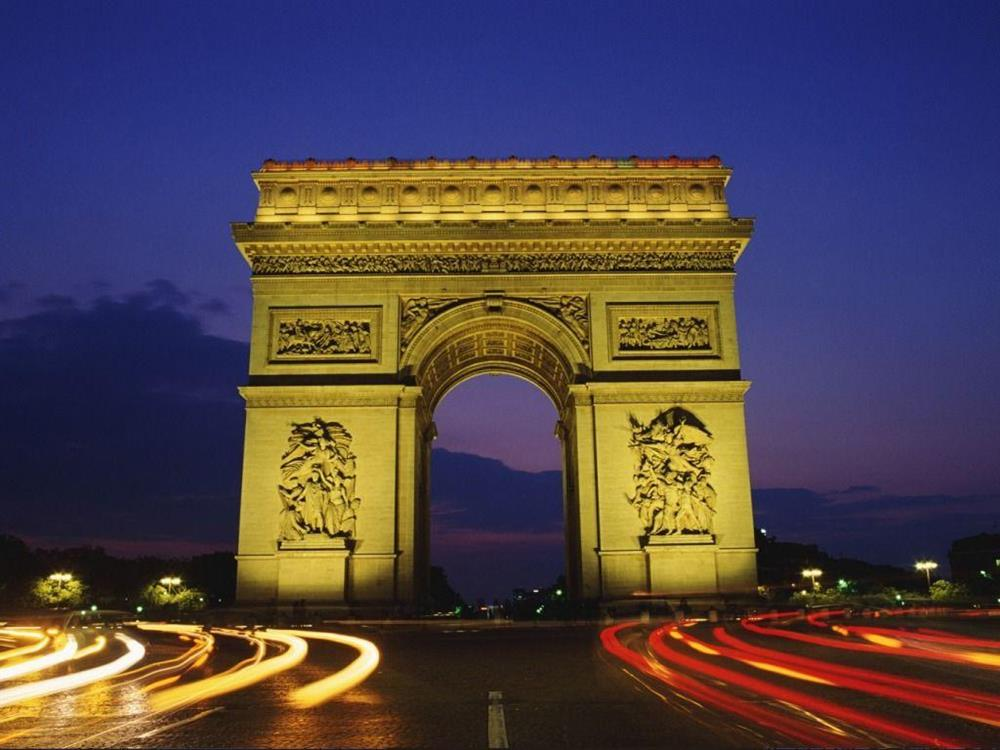Triumphal_Arch: (231, 149, 767, 608)
